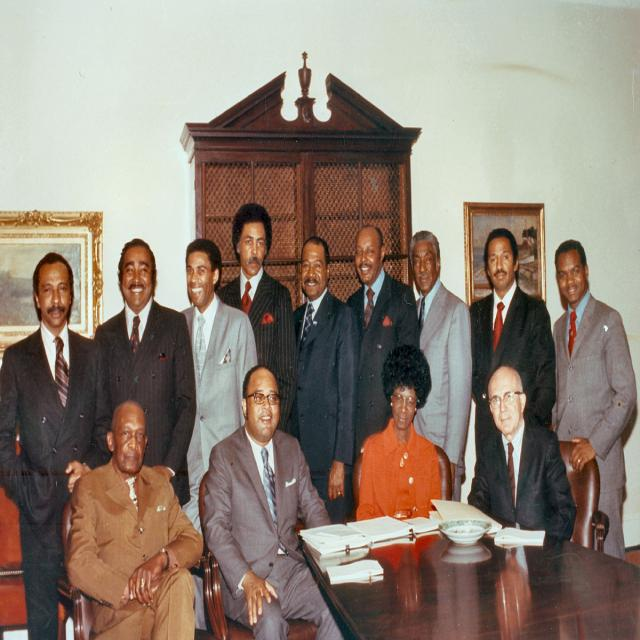body: (0, 246, 113, 639), (200, 362, 341, 640), (63, 395, 205, 639), (175, 238, 258, 634), (91, 237, 197, 510), (549, 244, 639, 560), (469, 225, 557, 459), (288, 232, 357, 528), (466, 362, 578, 542), (344, 222, 422, 468), (217, 200, 299, 434), (408, 230, 472, 504), (355, 342, 443, 524), (384, 543, 541, 639)
